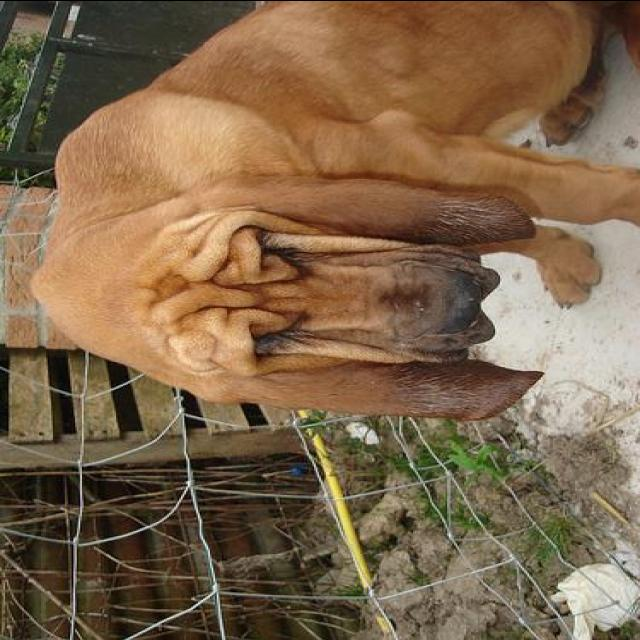bloodhound: (25, 0, 635, 420)
